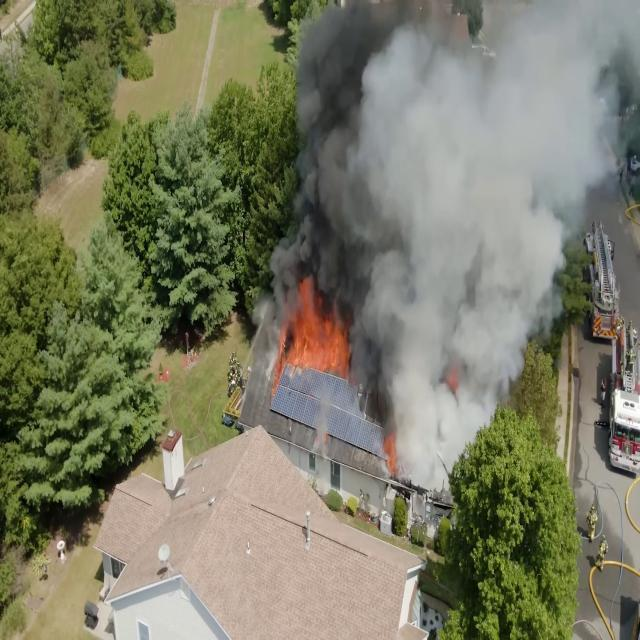Fire: (289, 312, 351, 372)
Smoke: (382, 38, 510, 346), (298, 20, 381, 229), (284, 176, 384, 292)
